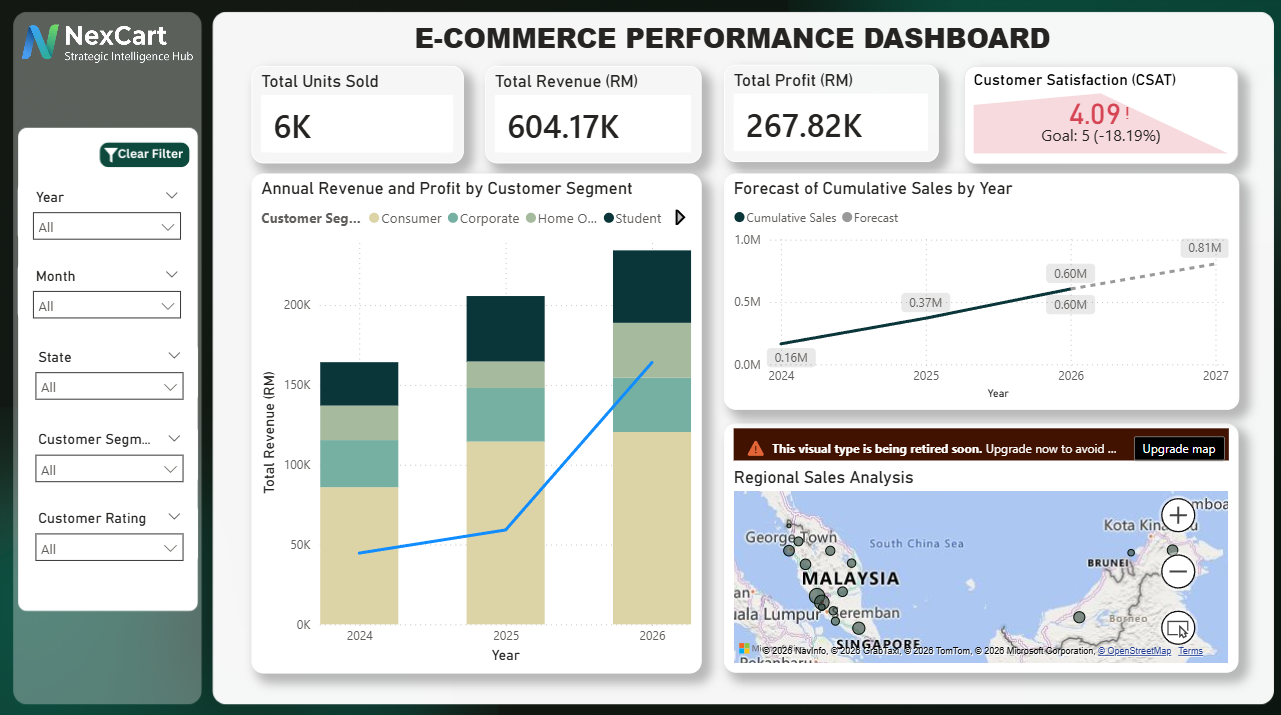

The page's visual inventory and layout, read from the dashboard file:
{"tool":"powerbi","page":{"name":"Main Dashboard","canvas":[1280,720],"ordinal":0},"visuals":[{"type":"image","box":[0,0,1280.3,720.4],"z":0},{"type":"image","box":[20.6,27.4,177,41.2],"z":1000},{"type":"textbox","box":[361.4,17.1,735.7,85.7],"z":2000},{"type":"cardVisual","title":"Total Revenue (RM)","fields":{"Data":["Sum(CleanEcommerceTable.Sales_Revenue_RM)"]},"box":[483.9,69.7,215.2,97],"z":3000},{"type":"cardVisual","title":"Total Profit (RM)","fields":{"Data":["Sum(CleanEcommerceTable.Profit_RM)"]},"box":[721.5,68.4,214,97],"z":4000},{"type":"cardVisual","title":"Total Units Sold","fields":{"Data":["Sum(CleanEcommerceTable.Quantity)"]},"box":[251.4,70,211.4,97.1],"z":5000},{"type":"kpi","title":"Customer Satisfaction (CSAT)","fields":{"Indicator":["Avg(CleanEcommerceTable.Customer_Rating)"],"Goal":["Max(CleanEcommerceTable.Customer_Rating)"],"TrendLine":["Dim_Date.Year"]},"box":[960.3,69.4,273.1,97.4],"z":6000},{"type":"map","title":"Regional Sales Analysis","fields":{"Category":["CleanEcommerceTable.Full_State_Name"],"Size":["Sum(CleanEcommerceTable.Sales_Revenue_RM)"]},"box":[721.8,425.4,511.8,248.4],"z":7000},{"type":"lineChart","title":"Forecast of Cumulative Sales by Year","fields":{"Y":["CleanEcommerceTable.Cumulative Sales","CleanEcommerceTable.With Forecast"],"Category":["Dim_Date.Year"]},"box":[721.5,176.6,512.5,235.1],"z":8000},{"type":"lineStackedColumnComboChart","title":"Annual Revenue and Profit by Customer Segment","fields":{"Category":["Dim_Date.Year","Dim_Date.Month"],"Series":["CleanEcommerceTable.Customer_Segment"],"Y2":["Sum(CleanEcommerceTable.Profit_RM)"],"Y":["Sum(CleanEcommerceTable.Sales_Revenue_RM)"]},"box":[251.3,176.6,447.8,497.6],"z":8001},{"type":"slicer","fields":{"Values":["Dim_Date.Year"]},"box":[19.2,181.7,177,67.2],"z":8002},{"type":"slicer","fields":{"Values":["Dim_Date.Month"]},"box":[19.2,260,177,67.2],"z":8003},{"type":"slicer","fields":{"Values":["CleanEcommerceTable.Customer_Segment"]},"box":[20.6,423.3,177,67.2],"z":8004},{"type":"slicer","fields":{"Values":["CleanEcommerceTable.Customer_Rating"]},"box":[20.6,501.5,177,67.2],"z":8005},{"type":"slicer","fields":{"Values":["CleanEcommerceTable.State"]},"box":[20.6,340.9,177,67.2],"z":8006},{"type":"actionButton","box":[99.3,144,92,27.3],"z":8008}]}

Visuals, with their boxes on the page's 1280x720 design canvas (x1, y1, x2, y2). These are canvas units, not pixel positions in the 1281x715 screenshot, which may show the page scaled, cropped or inside an application window:
image: [0,0,1280,720]
image: [21,27,198,69]
textbox: [361,17,1097,103]
"Total Revenue (RM)" cardVisual: [484,70,699,167]
"Total Profit (RM)" cardVisual: [722,68,936,165]
"Total Units Sold" cardVisual: [251,70,463,167]
"Customer Satisfaction (CSAT)" kpi: [960,69,1233,167]
"Regional Sales Analysis" map: [722,425,1234,674]
"Forecast of Cumulative Sales by Year" lineChart: [722,177,1234,412]
"Annual Revenue and Profit by Customer Segment" lineStackedColumnComboChart: [251,177,699,674]
slicer - Dim_Date.Year: [19,182,196,249]
slicer - Dim_Date.Month: [19,260,196,327]
slicer - CleanEcommerceTable.Customer_Segment: [21,423,198,490]
slicer - CleanEcommerceTable.Customer_Rating: [21,502,198,569]
slicer - CleanEcommerceTable.State: [21,341,198,408]
actionButton: [99,144,191,171]
